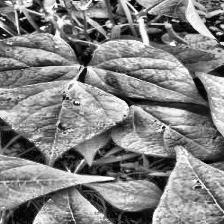ALS: (0, 82, 131, 168), (0, 35, 80, 90), (33, 194, 118, 224)
